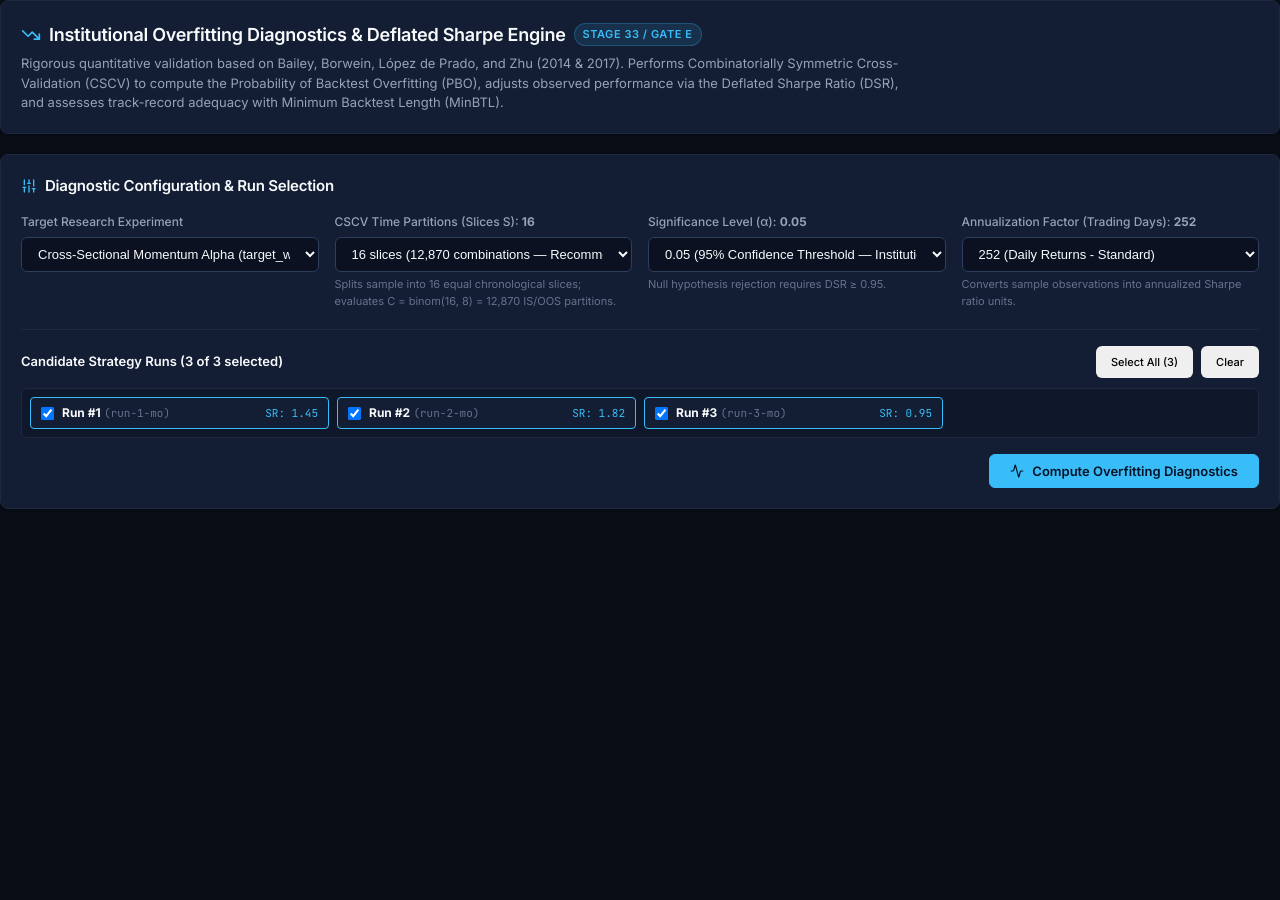
OverfittingDiagnosticsStudio & Overfitting API › renders per-run summary table with highest nominal Sharpe distinction and missing-value handling
The width and height of the screenshot is (1280, 900).
Click the button "Compute Overfitting Diagnostics". click: x=1124, y=471
box: x1=989 y1=454 x2=1259 y2=488
(page scrolled)
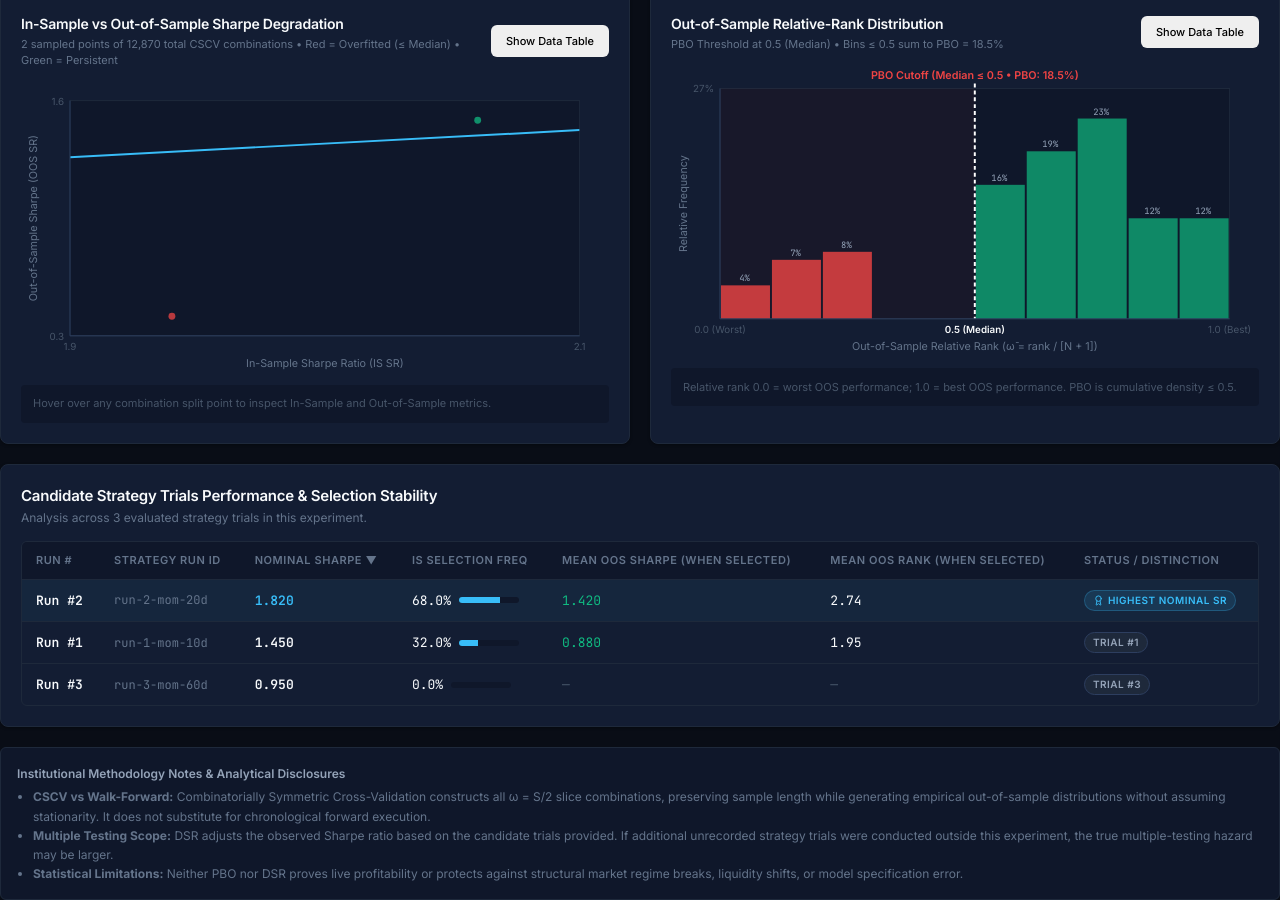
Check: the heading "Candidate Strategy Trials Performance & Selection Stability" is shown, box x1=21 y1=485 x2=437 y2=507
Check: the text "Highest Nominal SR" is shown, box x1=1108 y1=593 x2=1227 y2=608
